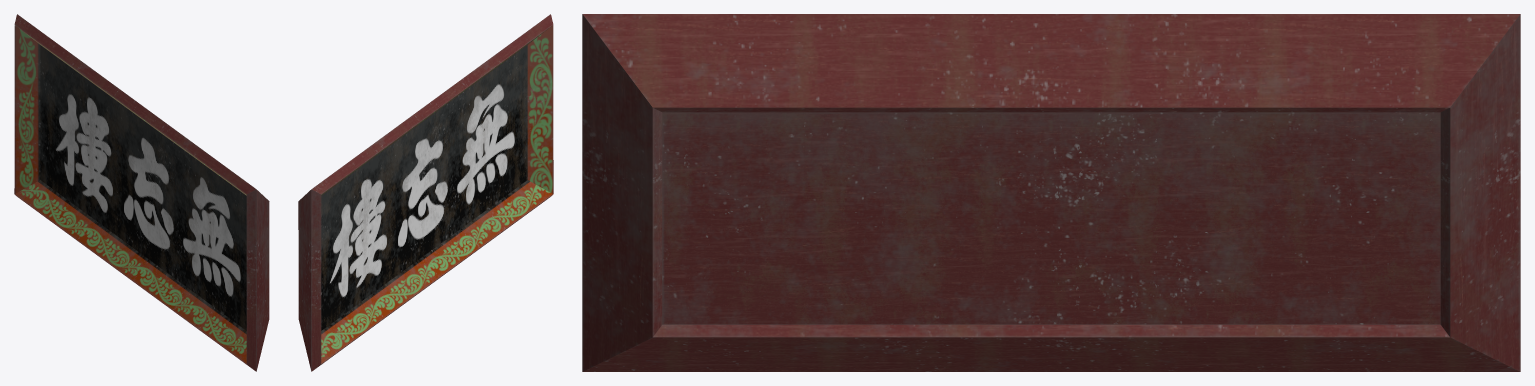
File: SM_SOJD_Signboard02g.fbx
3 views of the same model, side by side, from view 1: azimuth 30°, elevation 25°; view 2: azimuth 150°, elevation 25°; view 3: azimuth 270°, elevation 25° (orthographic). The views are drawn at different scales.
Visible parts, largest first — view 1: SM_SOJD_Signboard02g; view 2: SM_SOJD_Signboard02g; view 3: SM_SOJD_Signboard02g.
Boxes of the visible parts, x1,y1,x2,y2 form: SM_SOJD_Signboard02g: (14, 14, 269, 371); SM_SOJD_Signboard02g: (298, 14, 553, 371); SM_SOJD_Signboard02g: (582, 14, 1520, 371).
Size of the model in its own units: 10.2 by 114 by 48.
Materials: 1 (1 with a texture image).
